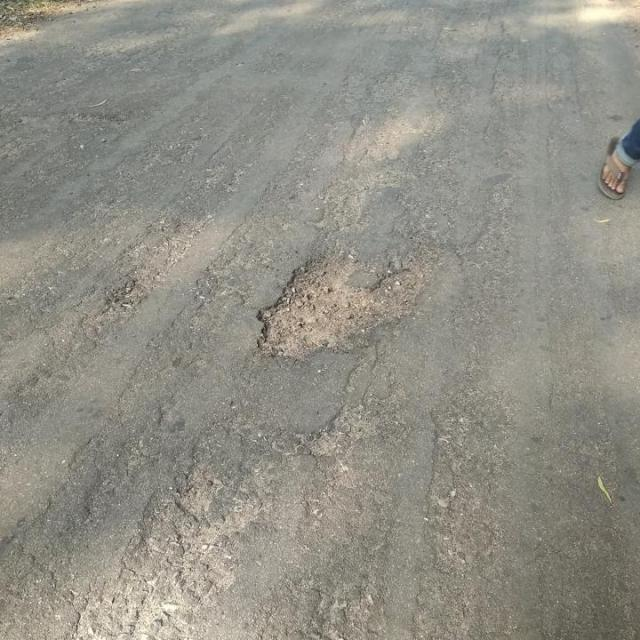Pothole: (252, 249, 438, 366)
